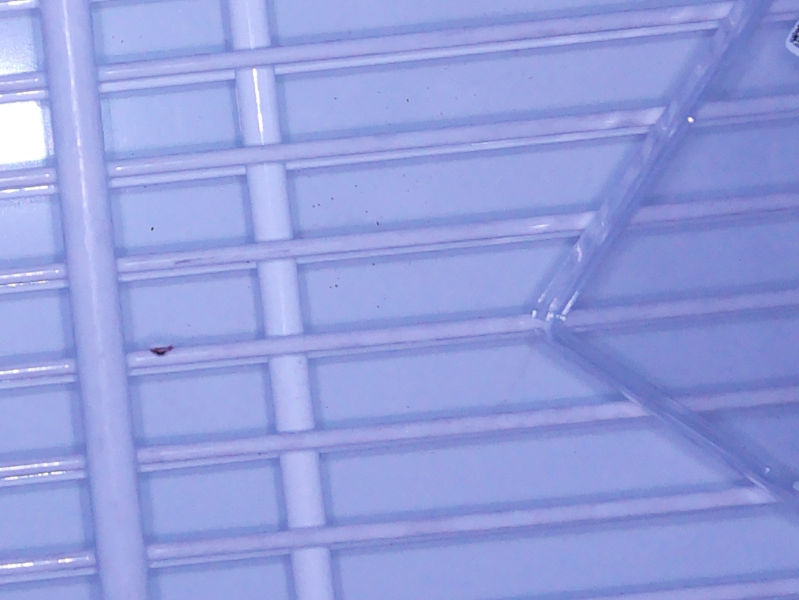plate: (528, 1, 799, 513)
